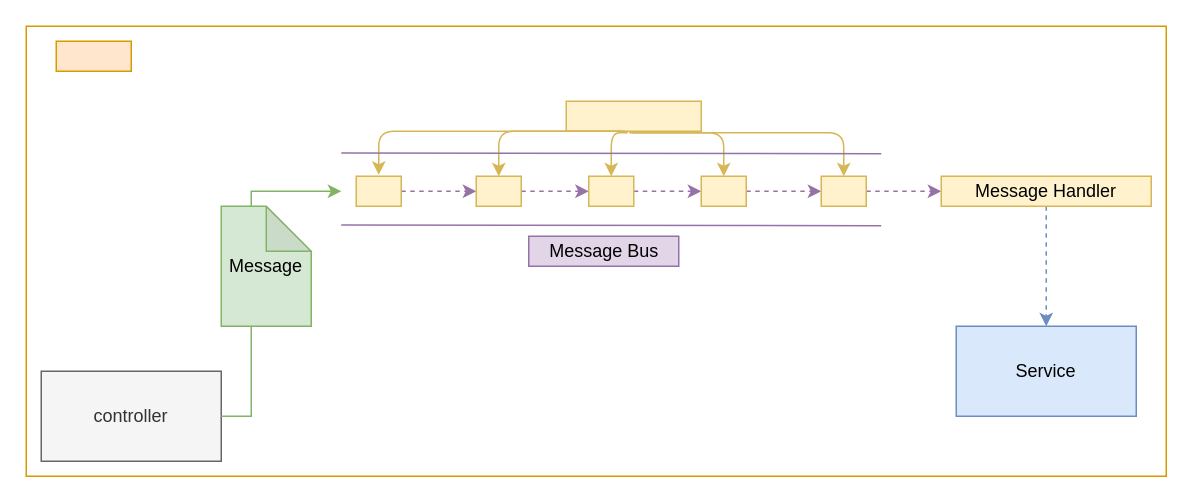
The diagram is 1193 pixels wide and 503 high, and some of its shapes have lost their labels. The centre of each missing label's shape, as x and y in pixels:
CQRS: point 93,55
Middlewares: point 633,115
